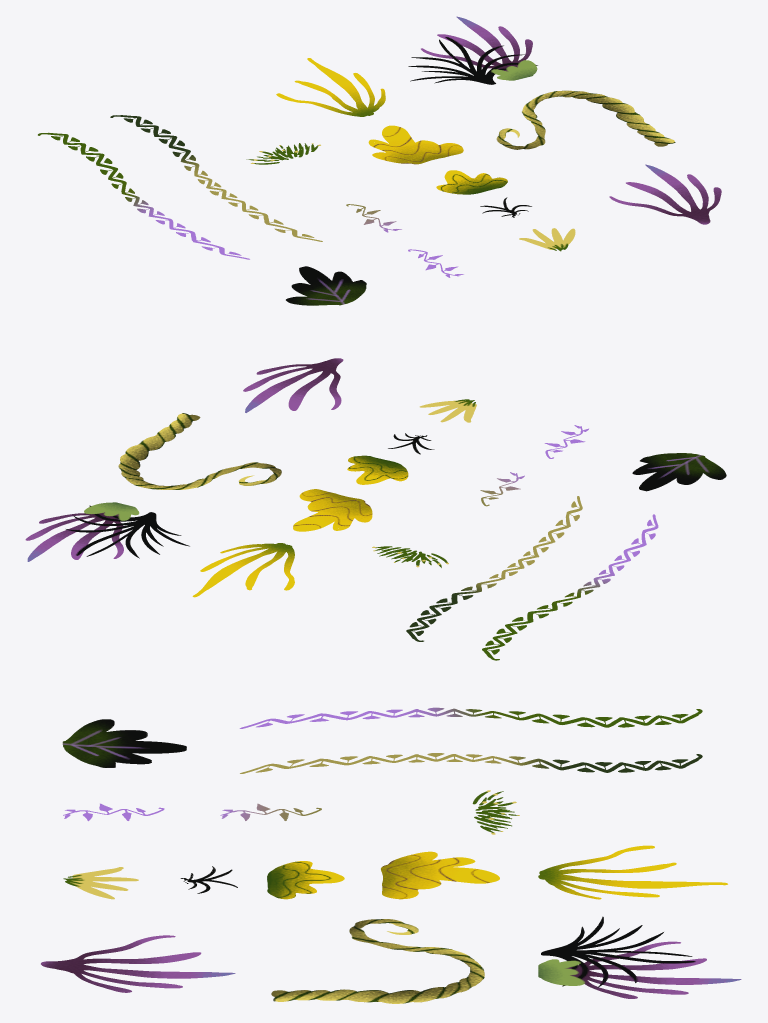
File: Tierra.fbx
3 renders of one model, top to bottom at view 1: azimuth 30°, elevation 25°; view 2: azimuth 150°, elevation 25°; view 3: azimuth 270°, elevation 25°, orthographic. The views are drawn at different scales.
Visible parts, largest first — view 1: Plane.012, Plane.011, Plane.003, Plane.009, Plane.002, Plane.001, Plane.013, Plane, Plane.008, Plane.005, Plane.010; view 2: Plane.012, Plane.011, Plane.003, Plane.009, Plane.002, Plane.013, Plane, Plane.001, Plane.008, Plane.005, Plane.010; view 3: Plane.012, Plane.011, Plane.003, Plane.009, Plane.002, Plane.013, Plane.001, Plane, Plane.008, Plane.005, Plane.010.
Part boxes in pixels (x1=…): Plane.012: x1=408, y1=16, x2=537, y2=84; Plane.011: x1=496, y1=90, x2=675, y2=149; Plane.003: x1=286, y1=266, x2=366, y2=305; Plane.009: x1=368, y1=125, x2=463, y2=164; Plane.002: x1=609, y1=164, x2=721, y2=224; Plane.001: x1=110, y1=115, x2=322, y2=241; Plane.013: x1=276, y1=58, x2=385, y2=116; Plane: x1=38, y1=132, x2=249, y2=259; Plane.008: x1=436, y1=170, x2=507, y2=194; Plane.005: x1=519, y1=228, x2=575, y2=251; Plane.010: x1=246, y1=143, x2=320, y2=164; Plane.012: x1=25, y1=502, x2=189, y2=561; Plane.011: x1=118, y1=413, x2=281, y2=489; Plane.003: x1=632, y1=453, x2=726, y2=491; Plane.009: x1=293, y1=489, x2=372, y2=531; Plane.002: x1=243, y1=358, x2=343, y2=412; Plane.013: x1=192, y1=543, x2=294, y2=597; Plane: x1=482, y1=514, x2=658, y2=660; Plane.001: x1=406, y1=496, x2=582, y2=641; Plane.008: x1=347, y1=455, x2=408, y2=484; Plane.005: x1=419, y1=399, x2=476, y2=422; Plane.010: x1=372, y1=546, x2=448, y2=567; Plane.012: x1=538, y1=916, x2=741, y2=998; Plane.011: x1=271, y1=919, x2=484, y2=1003; Plane.003: x1=62, y1=719, x2=186, y2=767; Plane.009: x1=381, y1=851, x2=499, y2=899; Plane.002: x1=41, y1=935, x2=235, y2=992; Plane.013: x1=538, y1=845, x2=727, y2=899; Plane.001: x1=240, y1=753, x2=702, y2=773; Plane: x1=239, y1=707, x2=702, y2=728; Plane.008: x1=267, y1=861, x2=344, y2=899; Plane.005: x1=63, y1=867, x2=138, y2=899; Plane.010: x1=472, y1=790, x2=519, y2=834.
Size of the model in its own units: 195 by 2.98e-05 by 195.
